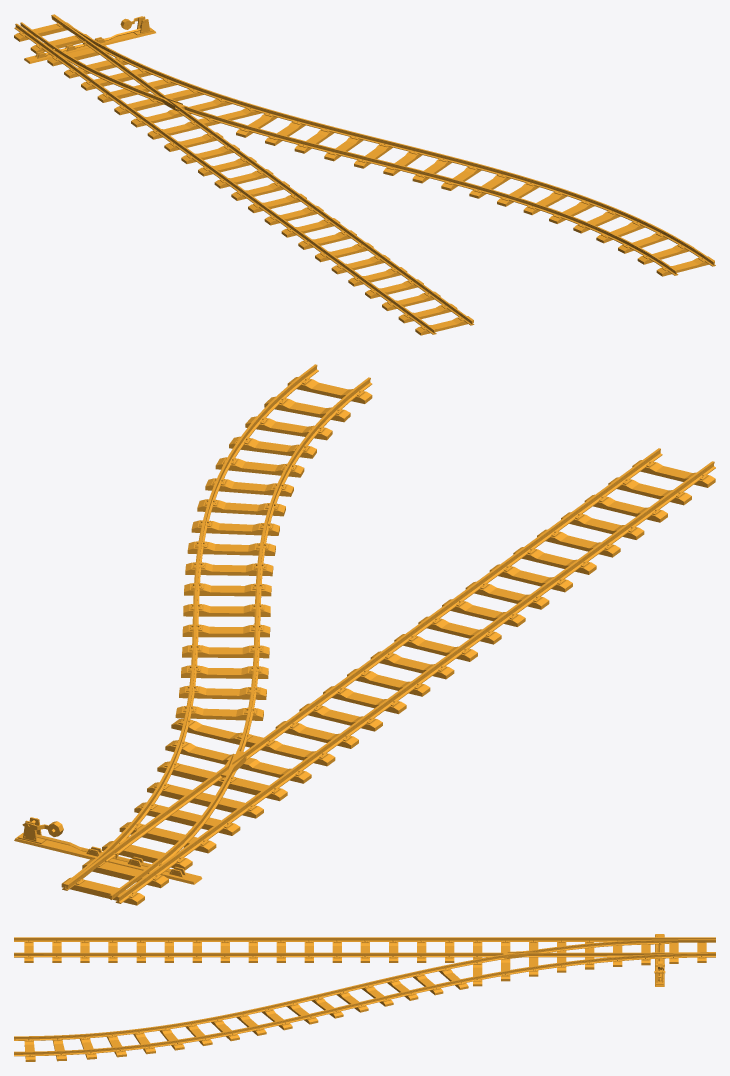
Rendered from SM_Train_Rail_Switch_Platform.fbx.
3 renders of one model, top to bottom at view 1: azimuth 30°, elevation 25°; view 2: azimuth 150°, elevation 25°; view 3: azimuth 270°, elevation 25°, orthographic. The views are drawn at different scales.
Parts seen in each view (by area): view 1: SM_Train_Rail_Switch_Platform; view 2: SM_Train_Rail_Switch_Platform; view 3: SM_Train_Rail_Switch_Platform.
Part boxes in pixels (x1,y1,x2,y2): SM_Train_Rail_Switch_Platform: [14, 14, 715, 335]; SM_Train_Rail_Switch_Platform: [14, 364, 715, 905]; SM_Train_Rail_Switch_Platform: [14, 934, 715, 1061].
Bounding box in the file's own units: 12.82 × 0.697 × 30.
